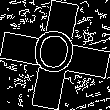O_S: (29, 26, 81, 84)
